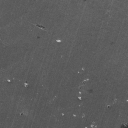corrosion: (35, 23, 47, 31), (83, 77, 90, 83), (55, 38, 62, 43), (23, 82, 28, 89), (78, 96, 82, 101), (72, 113, 76, 118)
